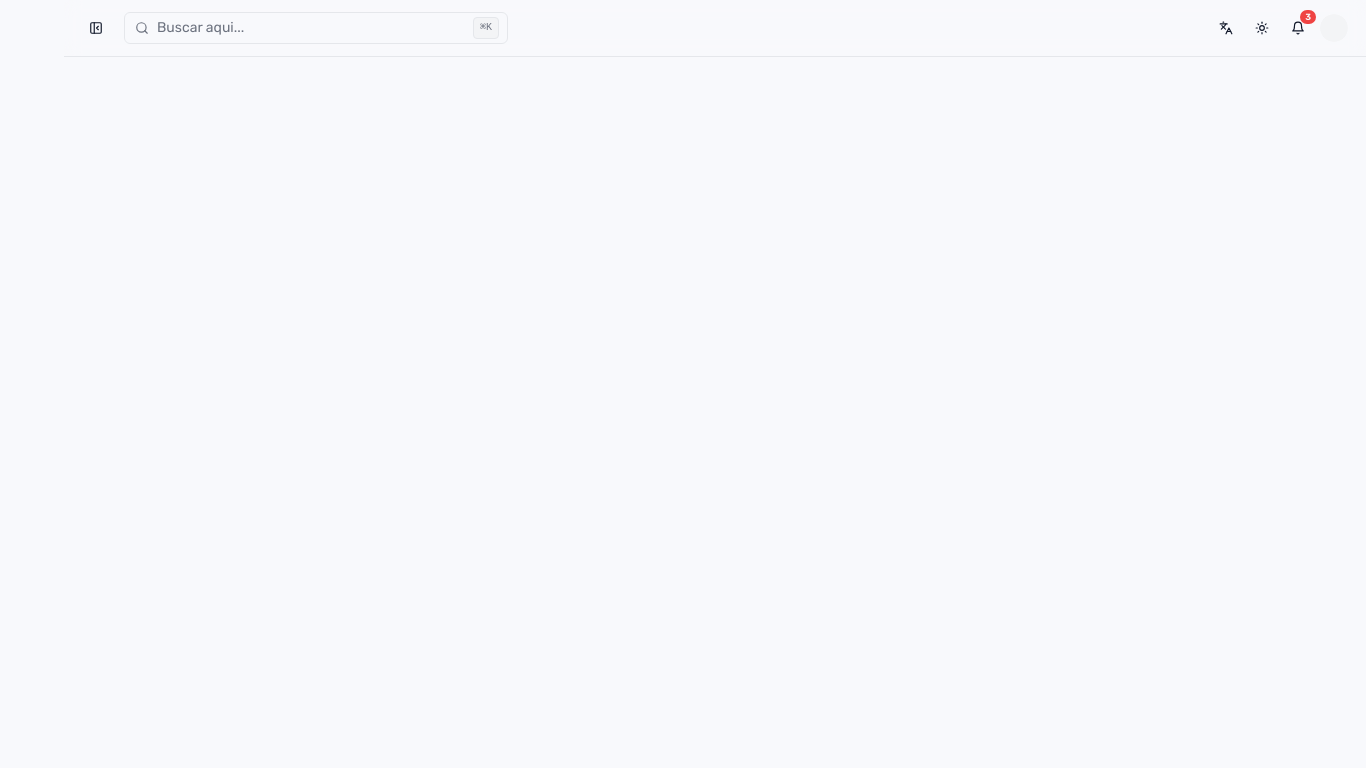
Test: global search › navigates to the chosen page and closes
Click the button "Buscar aqui... ⌘K".
click(201, 28)  # box x1=124 y1=12 x2=508 y2=44
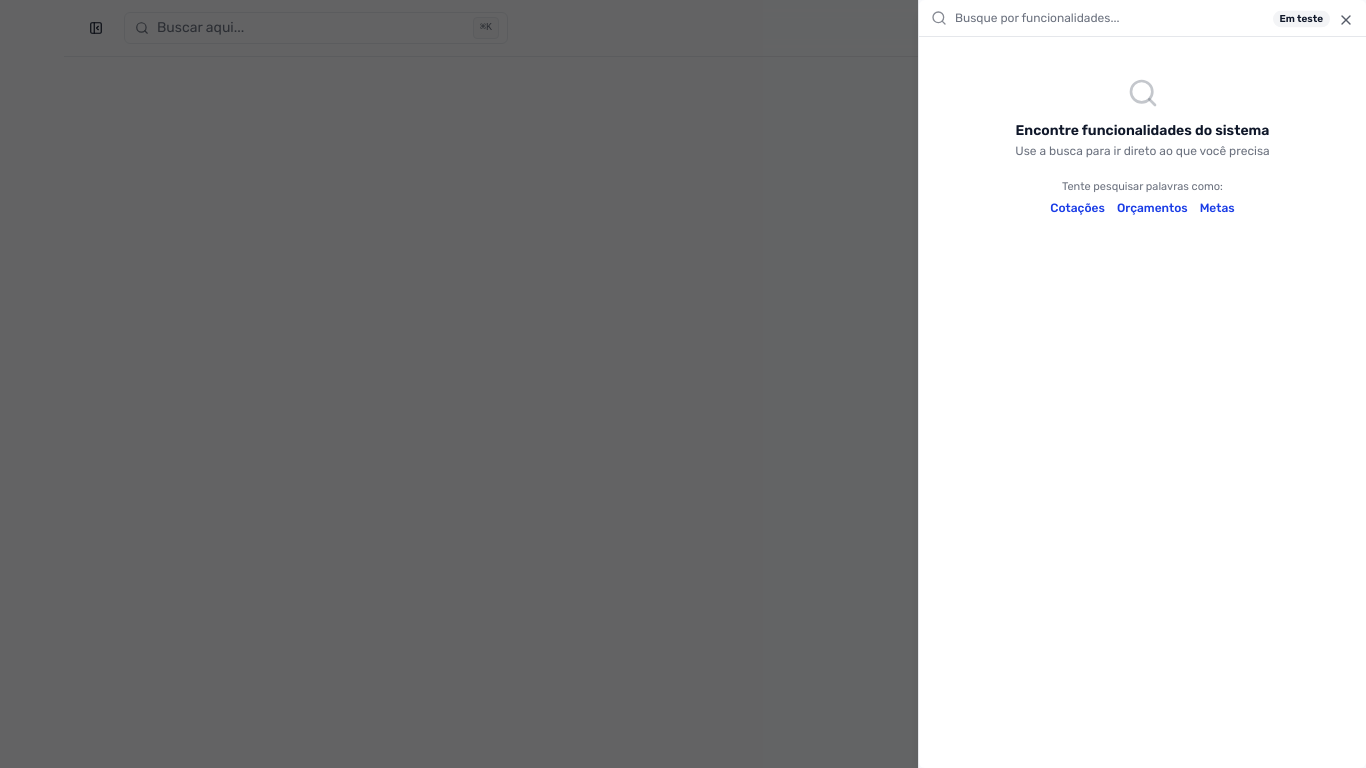
Type "metas" into the dropdown.
click(1154, 18); type("metas")  # box x1=955 y1=0 x2=1354 y2=36
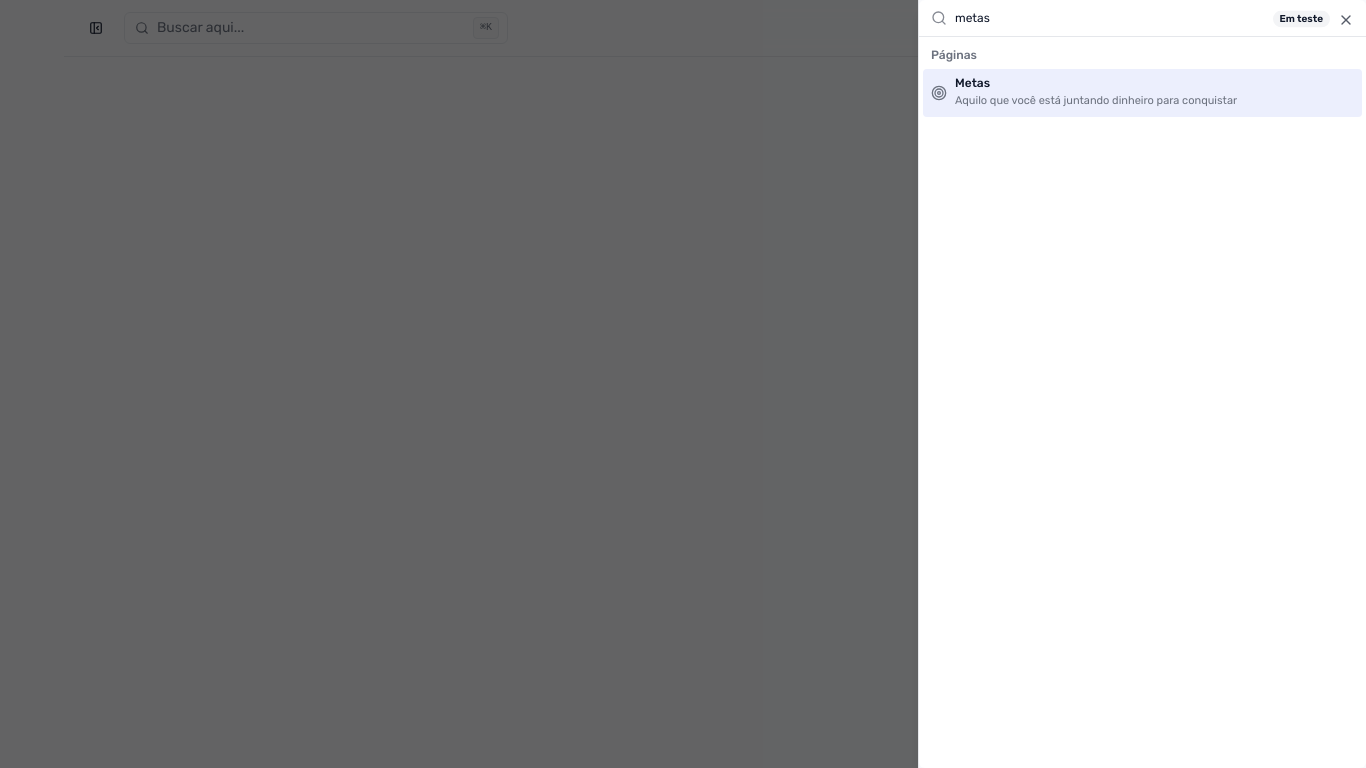
Click the option "Metas Aquilo que você está juntando dinheiro para conquistar".
click(1142, 93)  # box x1=923 y1=69 x2=1362 y2=117
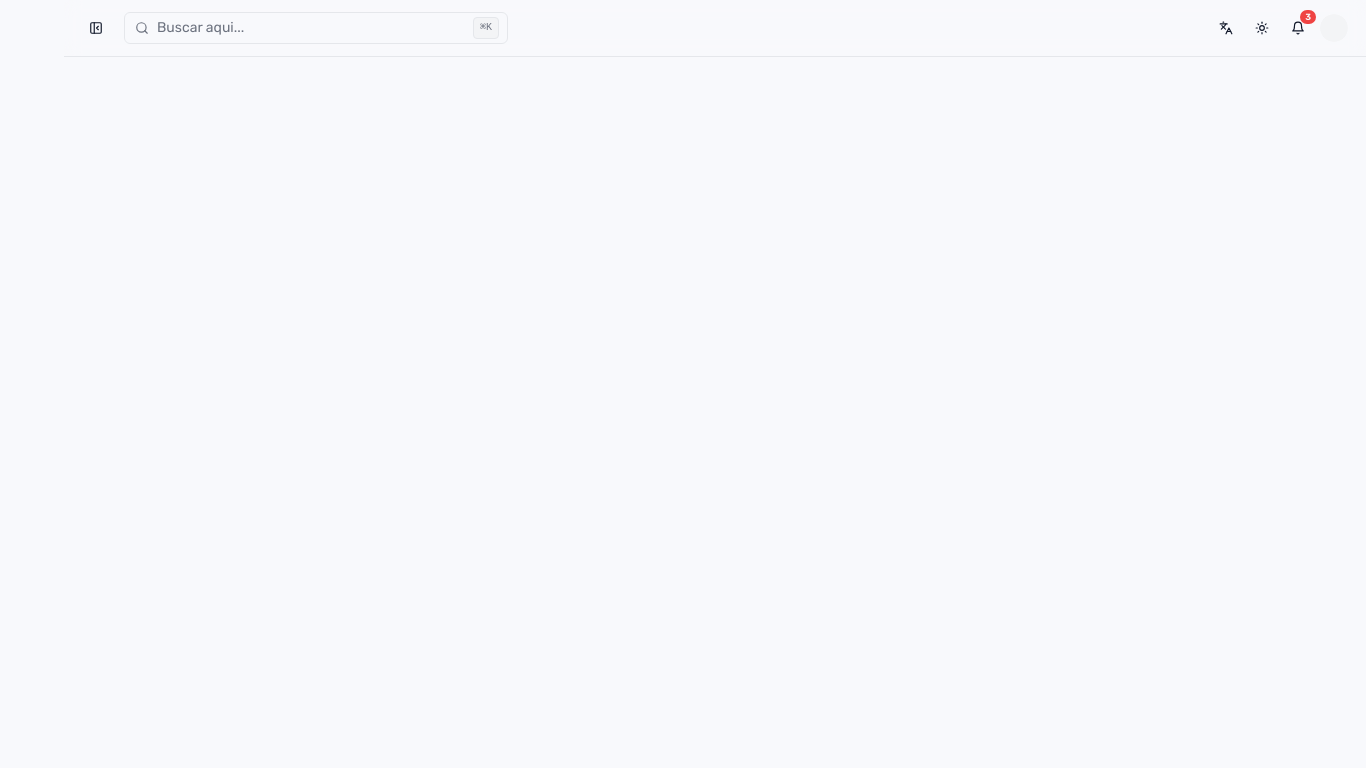
Now the dialog is gone
